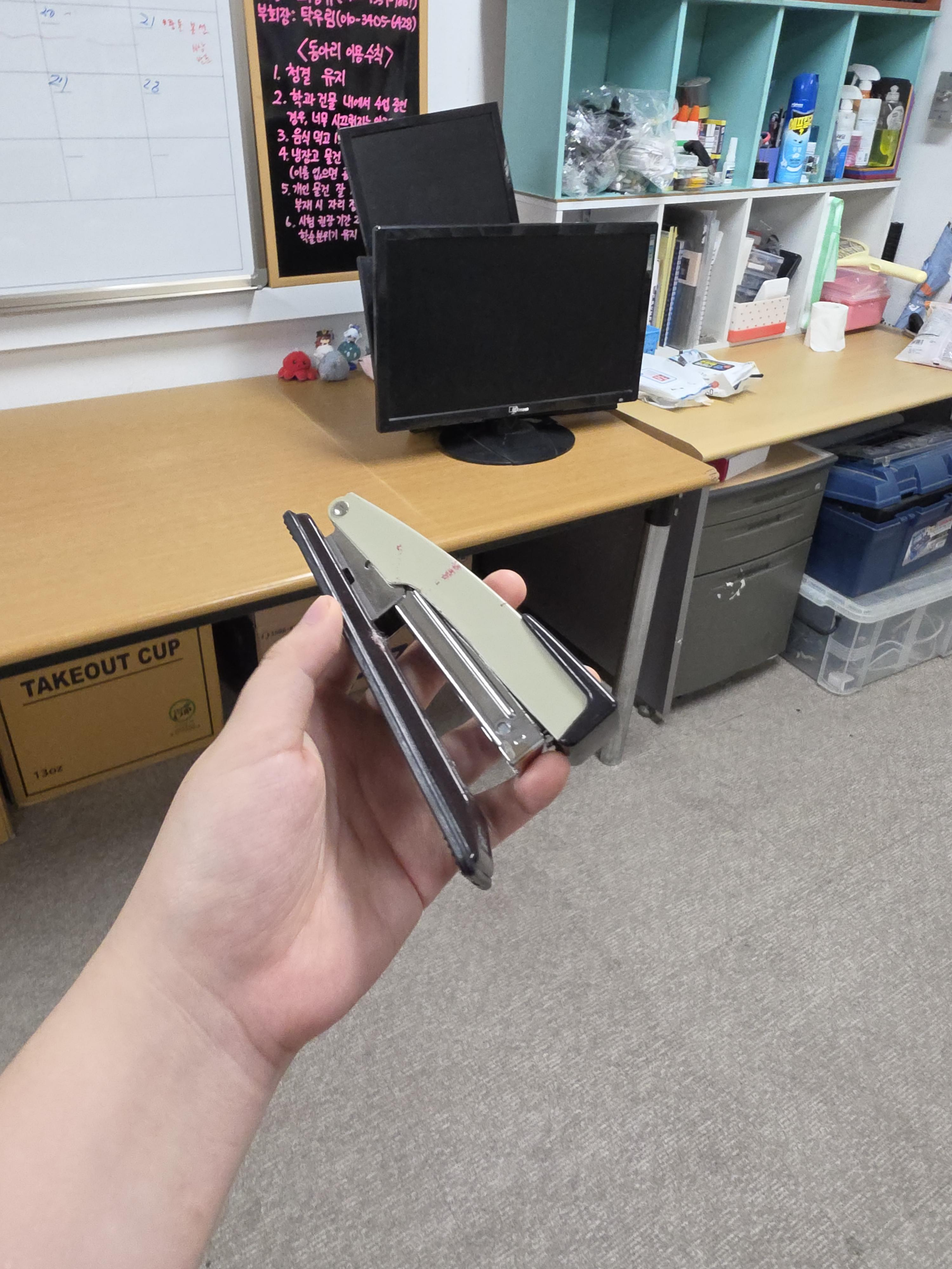stapler: (283, 492, 618, 891)
tissue: (806, 301, 848, 353)
